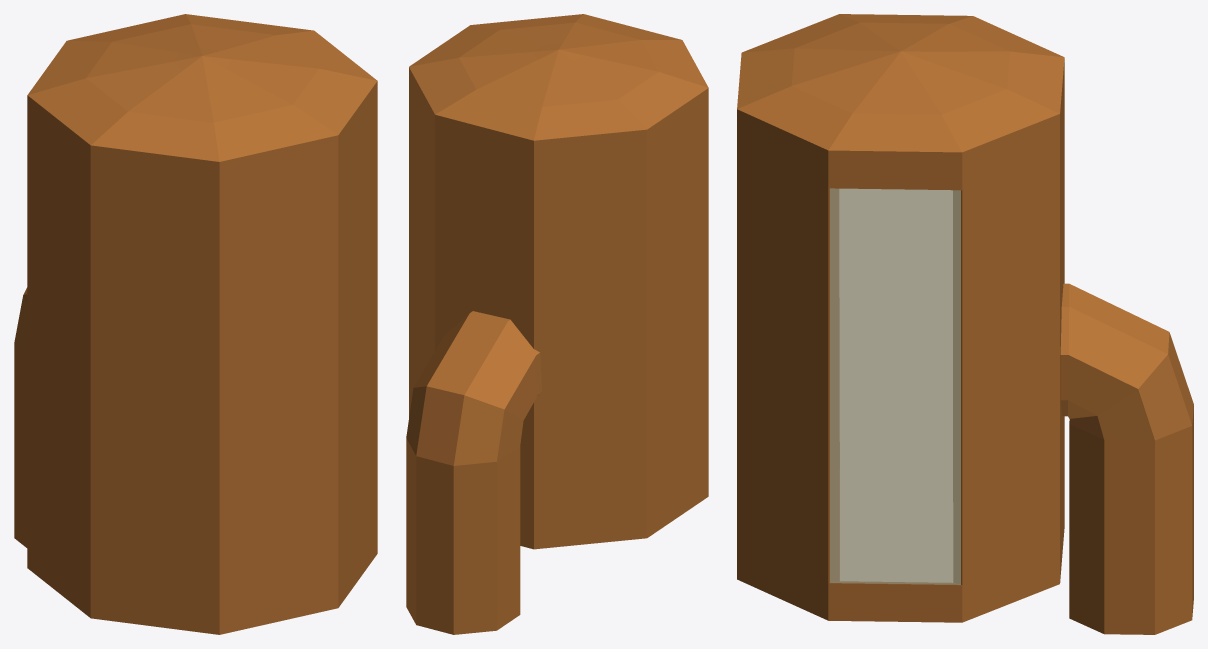
The model's file is VAT70.glb.
3 renders of one model, left to right at view 1: azimuth 30°, elevation 25°; view 2: azimuth 150°, elevation 25°; view 3: azimuth 270°, elevation 25°, orthographic. The views are drawn at different scales.
Visible parts, largest first — view 1: Cylinder, Cylinder.001; view 2: Cylinder, Cylinder.001; view 3: Cylinder, glass, liquidHeight, Cylinder.001.
Boxes of the visible parts, <box> form: Cylinder: <box>27,14,377,634</box>; Cylinder.001: <box>14,287,27,547</box>; Cylinder: <box>409,14,708,549</box>; Cylinder.001: <box>406,311,541,634</box>; Cylinder: <box>737,14,1064,622</box>; glass: <box>830,188,960,584</box>; liquidHeight: <box>840,189,952,582</box>; Cylinder.001: <box>1060,283,1193,634</box>.
Size of the model in its own units: 1.82 by 3.44 by 2.54.
